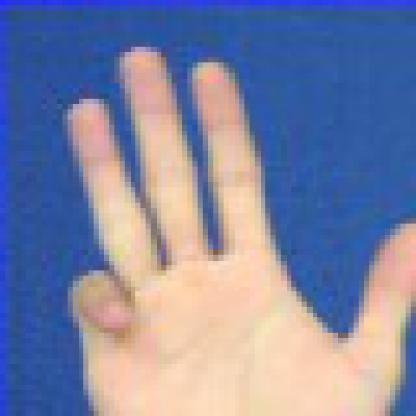nine: (15, 21, 410, 411)
